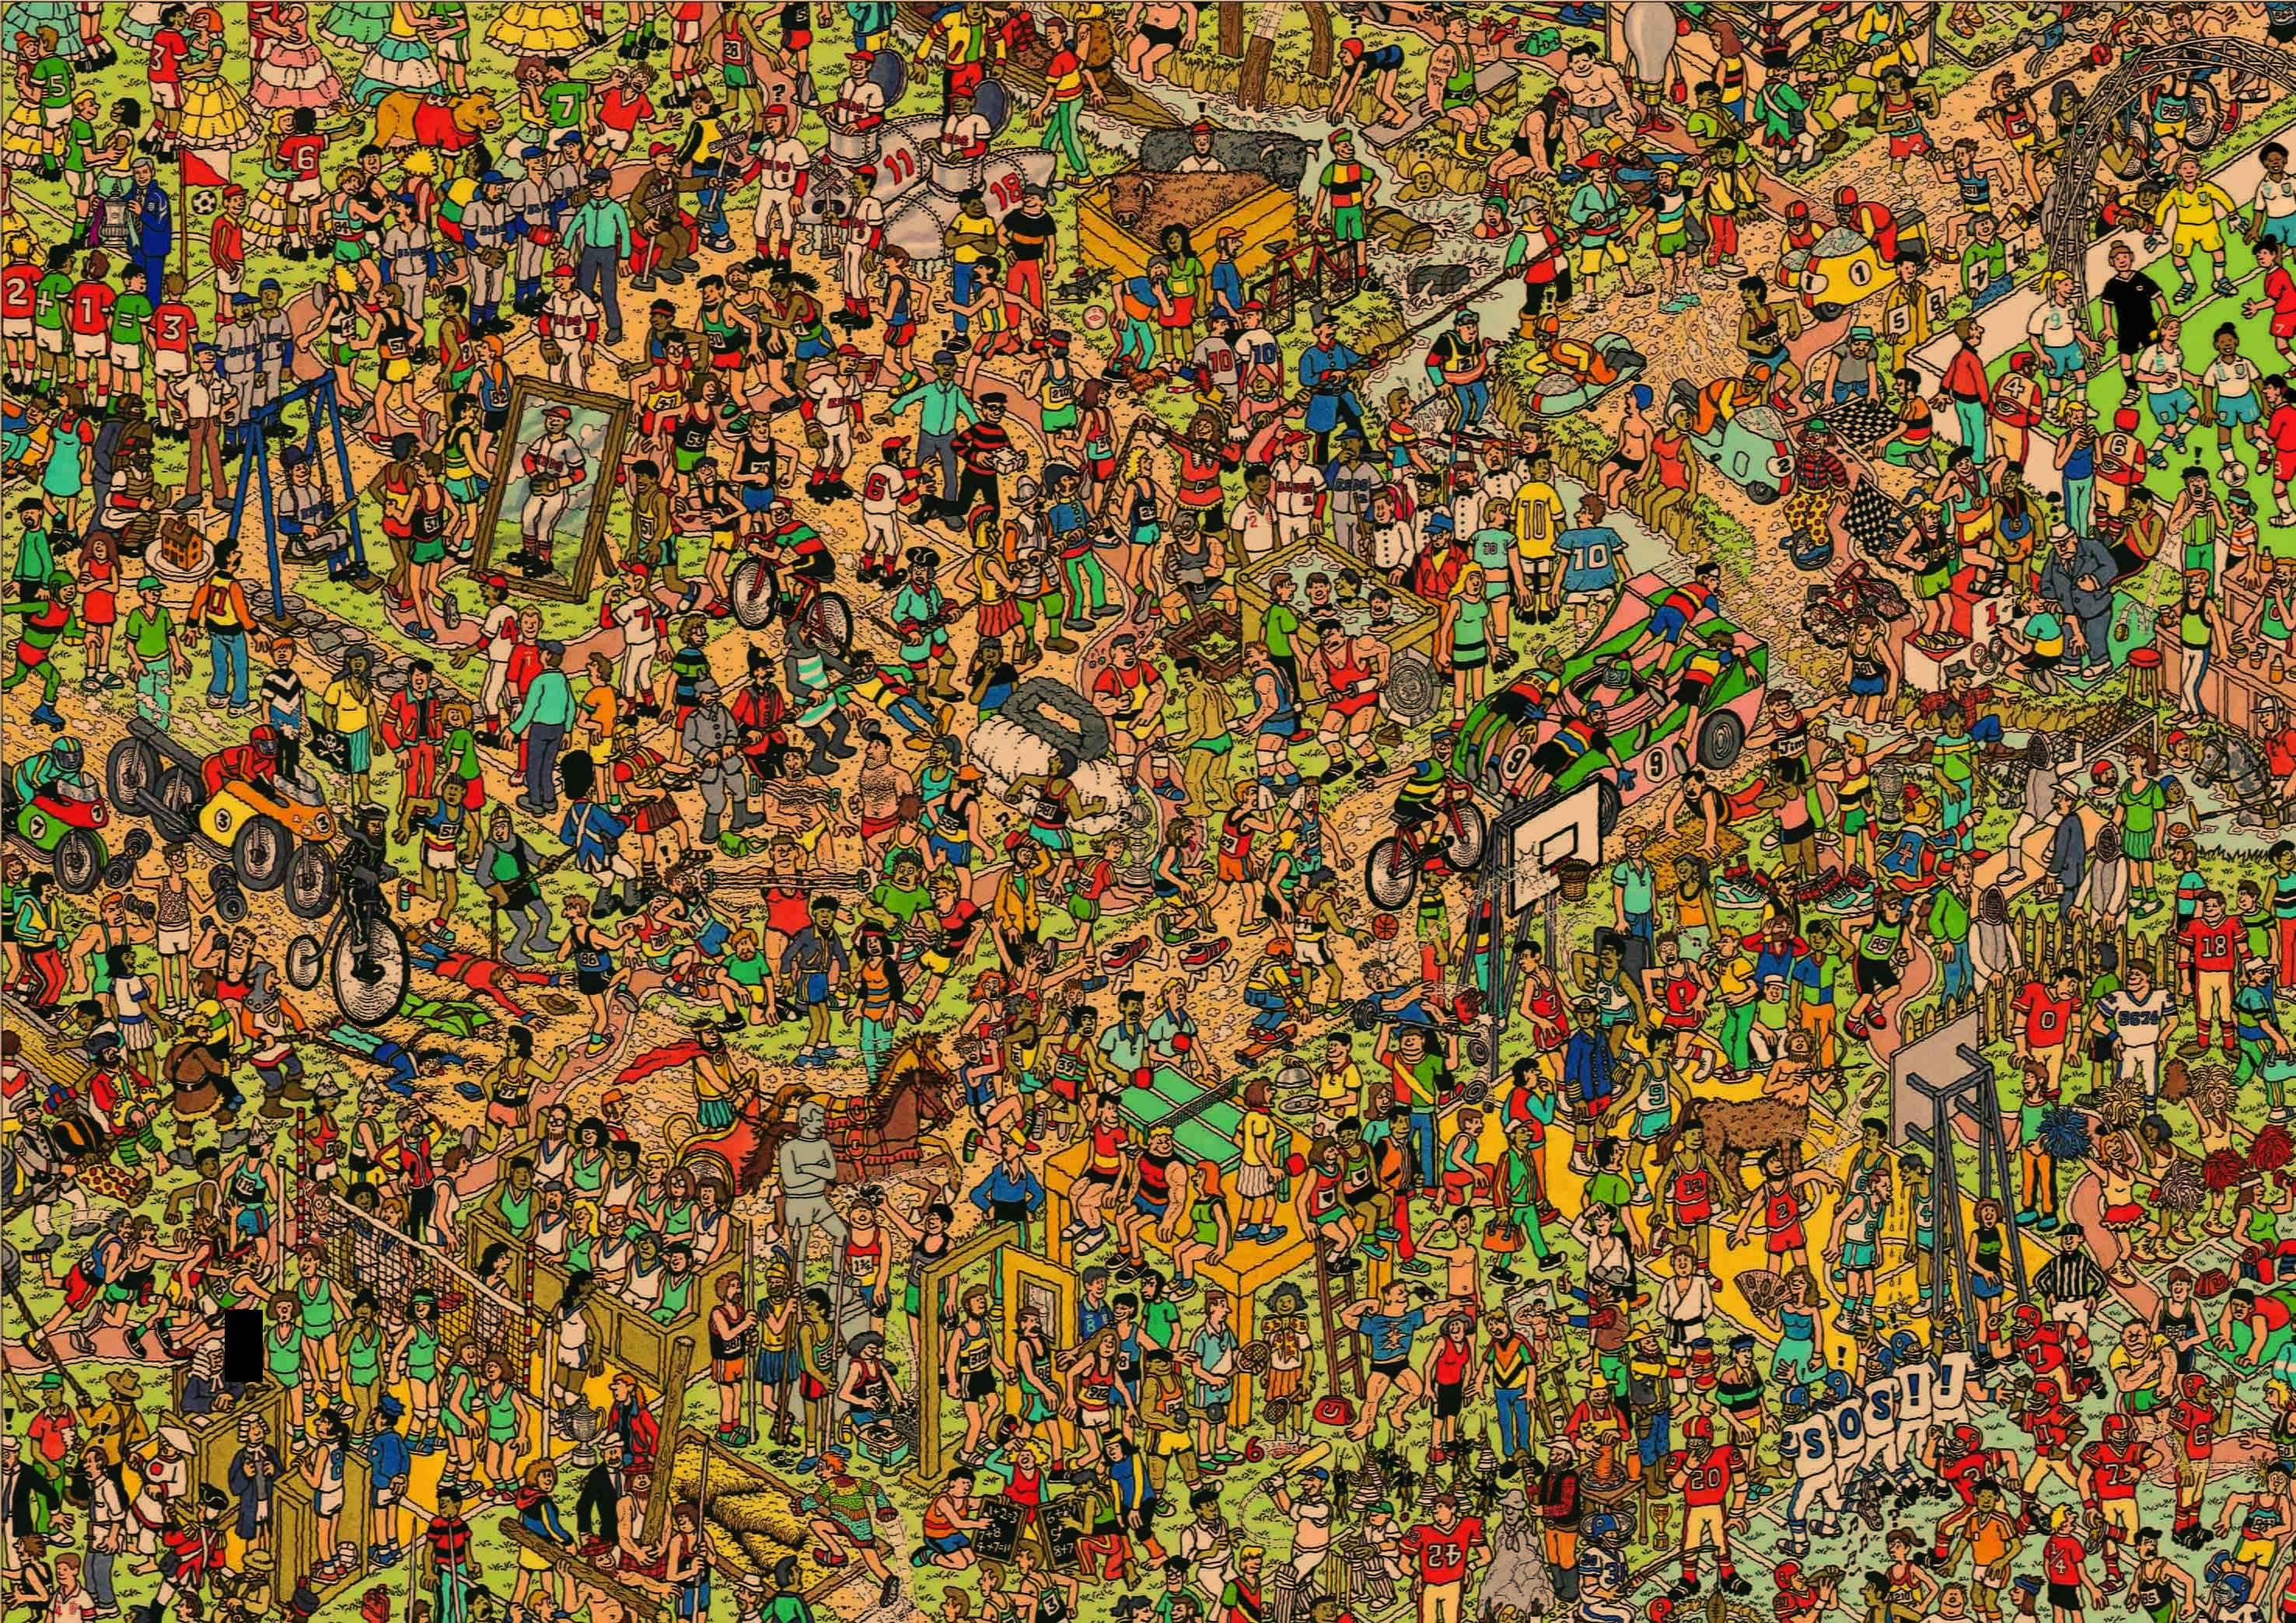waldos: (299, 1172, 336, 1244)
